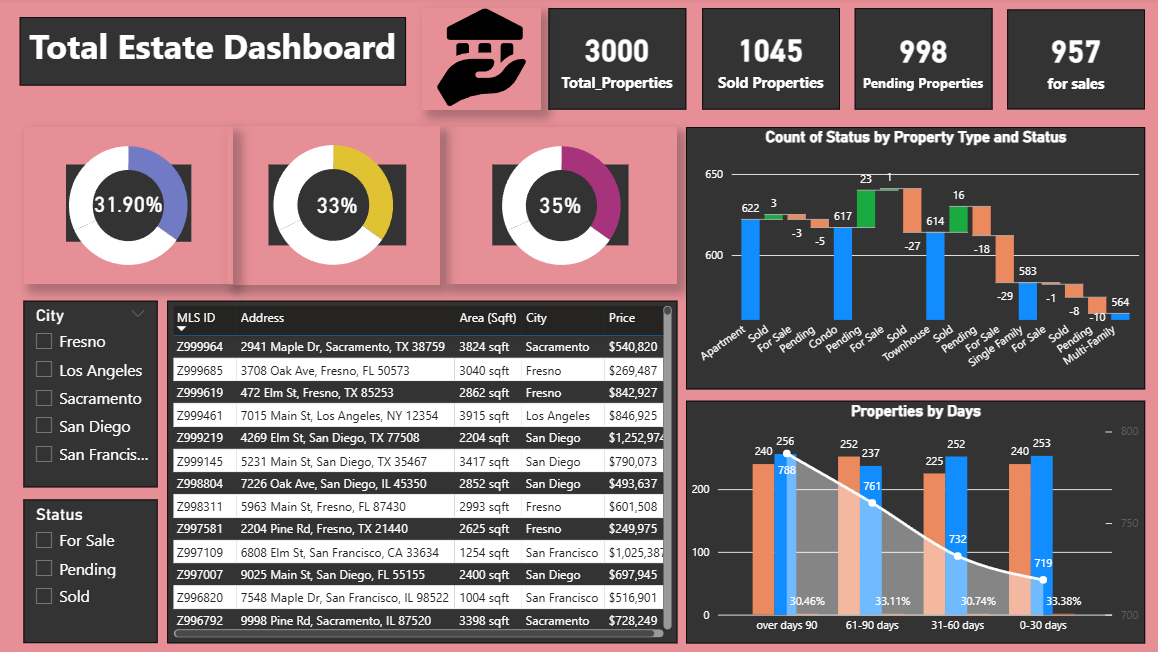

The page's visual inventory and layout, read from the dashboard file:
{"tool":"powerbi","page":{"name":"Page 1","canvas":[1280,720],"ordinal":0},"visuals":[{"type":"card","fields":{"Values":["Real Estate.Total_Properties"]},"box":[606.5,12.3,150.9,111.1],"z":0},{"type":"textbox","box":[26.1,22,540.7,74.1],"z":1000},{"type":"card","fields":{"Values":["Real Estate.Sold Properties"]},"box":[775.3,12.3,150.9,111.1],"z":2000},{"type":"card","fields":{"Values":["Real Estate.for sales"]},"box":[1110.1,13.7,150.9,109.8],"z":3000},{"type":"card","fields":{"Values":["Real Estate.Pending Properties"]},"box":[942.7,12.3,150.9,111.1],"z":4000},{"type":"card","fields":{"Values":["Real Estate.Percentage Profit"]},"box":[544.8,183.9,149.6,89.2],"z":5000},{"type":"card","fields":{"Values":["Real Estate.Percentage_for_sales"]},"box":[76.8,183.9,137.2,85.1],"z":6000},{"type":"card","fields":{"Values":["Real Estate.Panding_p"]},"box":[299.1,183.9,150.9,89.2],"z":7000},{"type":"donutChart","fields":{"Category":["Real Estate.Status"],"Y":["Real Estate.Total_Properties"]},"box":[30.2,142.7,230.5,172.9],"z":8000},{"type":"donutChart","fields":{"Category":["Real Estate.Status"],"Y":["Real Estate.Total_Properties"]},"box":[253.9,141.3,233.3,174.3],"z":9000},{"type":"donutChart","fields":{"Category":["Real Estate.Status"],"Y":["Real Estate.Total_Properties"]},"box":[494,142.7,253.9,172.9],"z":10000},{"type":"lineClusteredColumnComboChart","title":"Properties by Days","fields":{"Category":["Real Estate.Days"],"Y":["Real Estate.for sales","Real Estate.Pending Properties","Real Estate.Percentage_for_sales"],"Y2":["Real Estate.Total_Properties"]},"box":[757.5,443.2,503.6,266.2],"z":11000},{"type":"tableEx","fields":{"Values":["Real Estate.MLS ID","Real Estate.Address","Real Estate.Area (Sqft)","Real Estate.City","Real Estate.Price"]},"box":[199,333.4,548.9,376],"z":12000},{"type":"waterfallChart","fields":{"Category":["Real Estate.Property Type"],"Breakdown":["Real Estate.Status"],"Y":["CountNonNull(Real Estate.Status)"]},"box":[757.5,142.7,503.6,288.2],"z":13000},{"type":"slicer","fields":{"Values":["Real Estate.City"]},"box":[30.2,333.4,157.8,200.3],"z":14000},{"type":"slicer","fields":{"Values":["Real Estate.Status"]},"box":[30.2,551.6,157.8,157.8],"z":15000}]}

Visuals, with their boxes in screenshot pixels (x1, y1, x2, y2), scaled from the page's 1280x720 canvas onto the 1158x652 screenshot:
card - Real Estate.Total_Properties: select_region(549, 11, 685, 112)
textbox: select_region(24, 20, 513, 87)
card - Real Estate.Sold Properties: select_region(701, 11, 838, 112)
card - Real Estate.for sales: select_region(1004, 12, 1141, 112)
card - Real Estate.Pending Properties: select_region(853, 11, 989, 112)
card - Real Estate.Percentage Profit: select_region(493, 167, 628, 247)
card - Real Estate.Percentage_for_sales: select_region(69, 167, 194, 244)
card - Real Estate.Panding_p: select_region(271, 167, 407, 247)
donutChart - Real Estate.Status x Real Estate.Total_Properties: select_region(27, 129, 236, 286)
donutChart - Real Estate.Status x Real Estate.Total_Properties: select_region(230, 128, 441, 286)
donutChart - Real Estate.Status x Real Estate.Total_Properties: select_region(447, 129, 677, 286)
"Properties by Days" lineClusteredColumnComboChart: select_region(685, 401, 1141, 642)
tableEx - Real Estate.MLS ID x Real Estate.Address: select_region(180, 302, 677, 642)
waterfallChart - Real Estate.Property Type x Real Estate.Status: select_region(685, 129, 1141, 390)
slicer - Real Estate.City: select_region(27, 302, 170, 483)
slicer - Real Estate.Status: select_region(27, 500, 170, 642)
